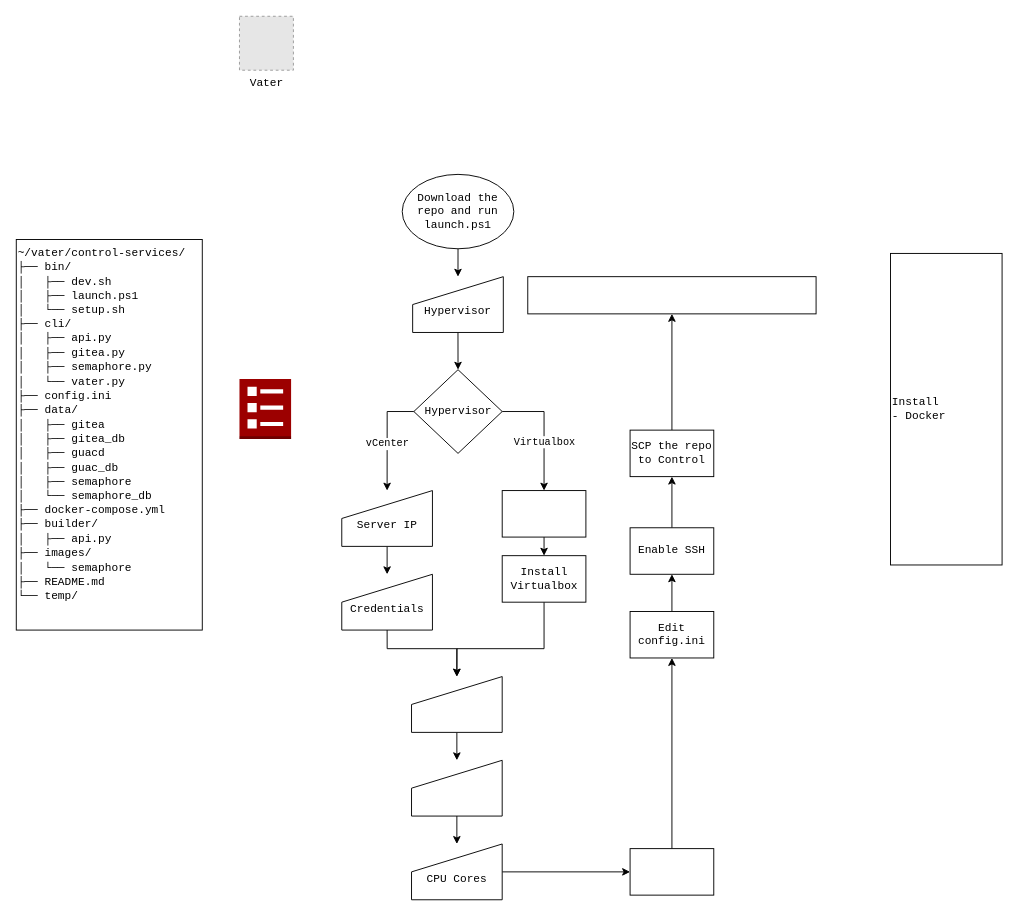
Some shapes in this 1018 by 916 pixel diagram are drawn without their labels. Grey dashed boxes stand in for pictures. Each missing label, with the centre of its shape:
"config.ini" goes at pixel 265 408.
"Disk size" goes at pixel 456 704.
"Install Chocolatey" goes at pixel 543 513.
"Install Control VM" goes at pixel 671 871.
"Memory" goes at pixel 456 787.
"~/vater/control-serivces/bin$ ./setup.sh" goes at pixel 671 295.
